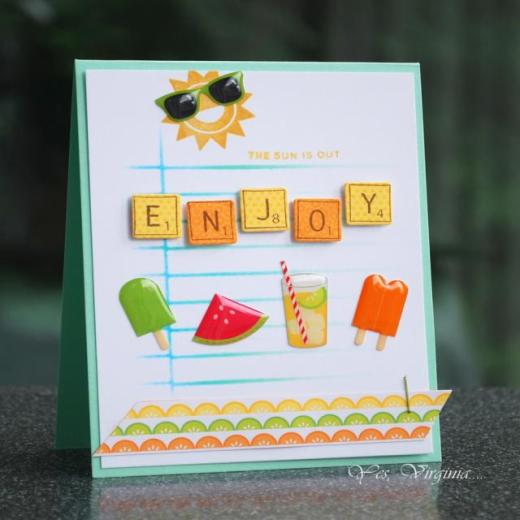Cherry: (191, 294, 272, 346)
